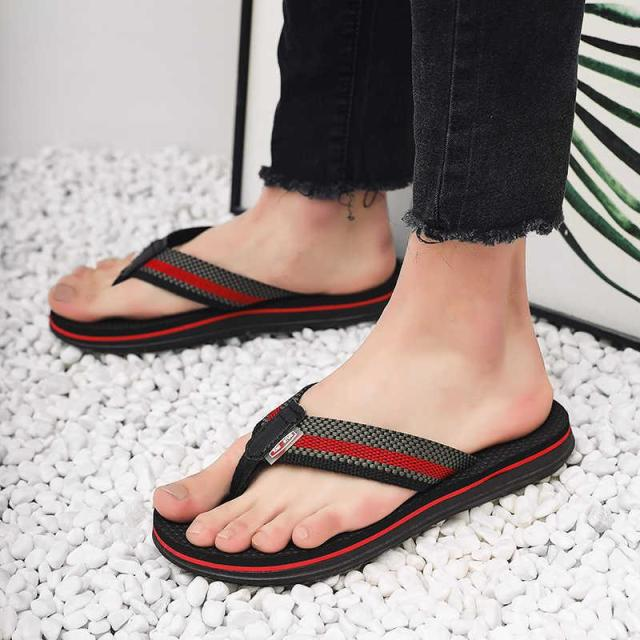Sandals: (140, 341, 571, 579), (49, 197, 397, 346)
